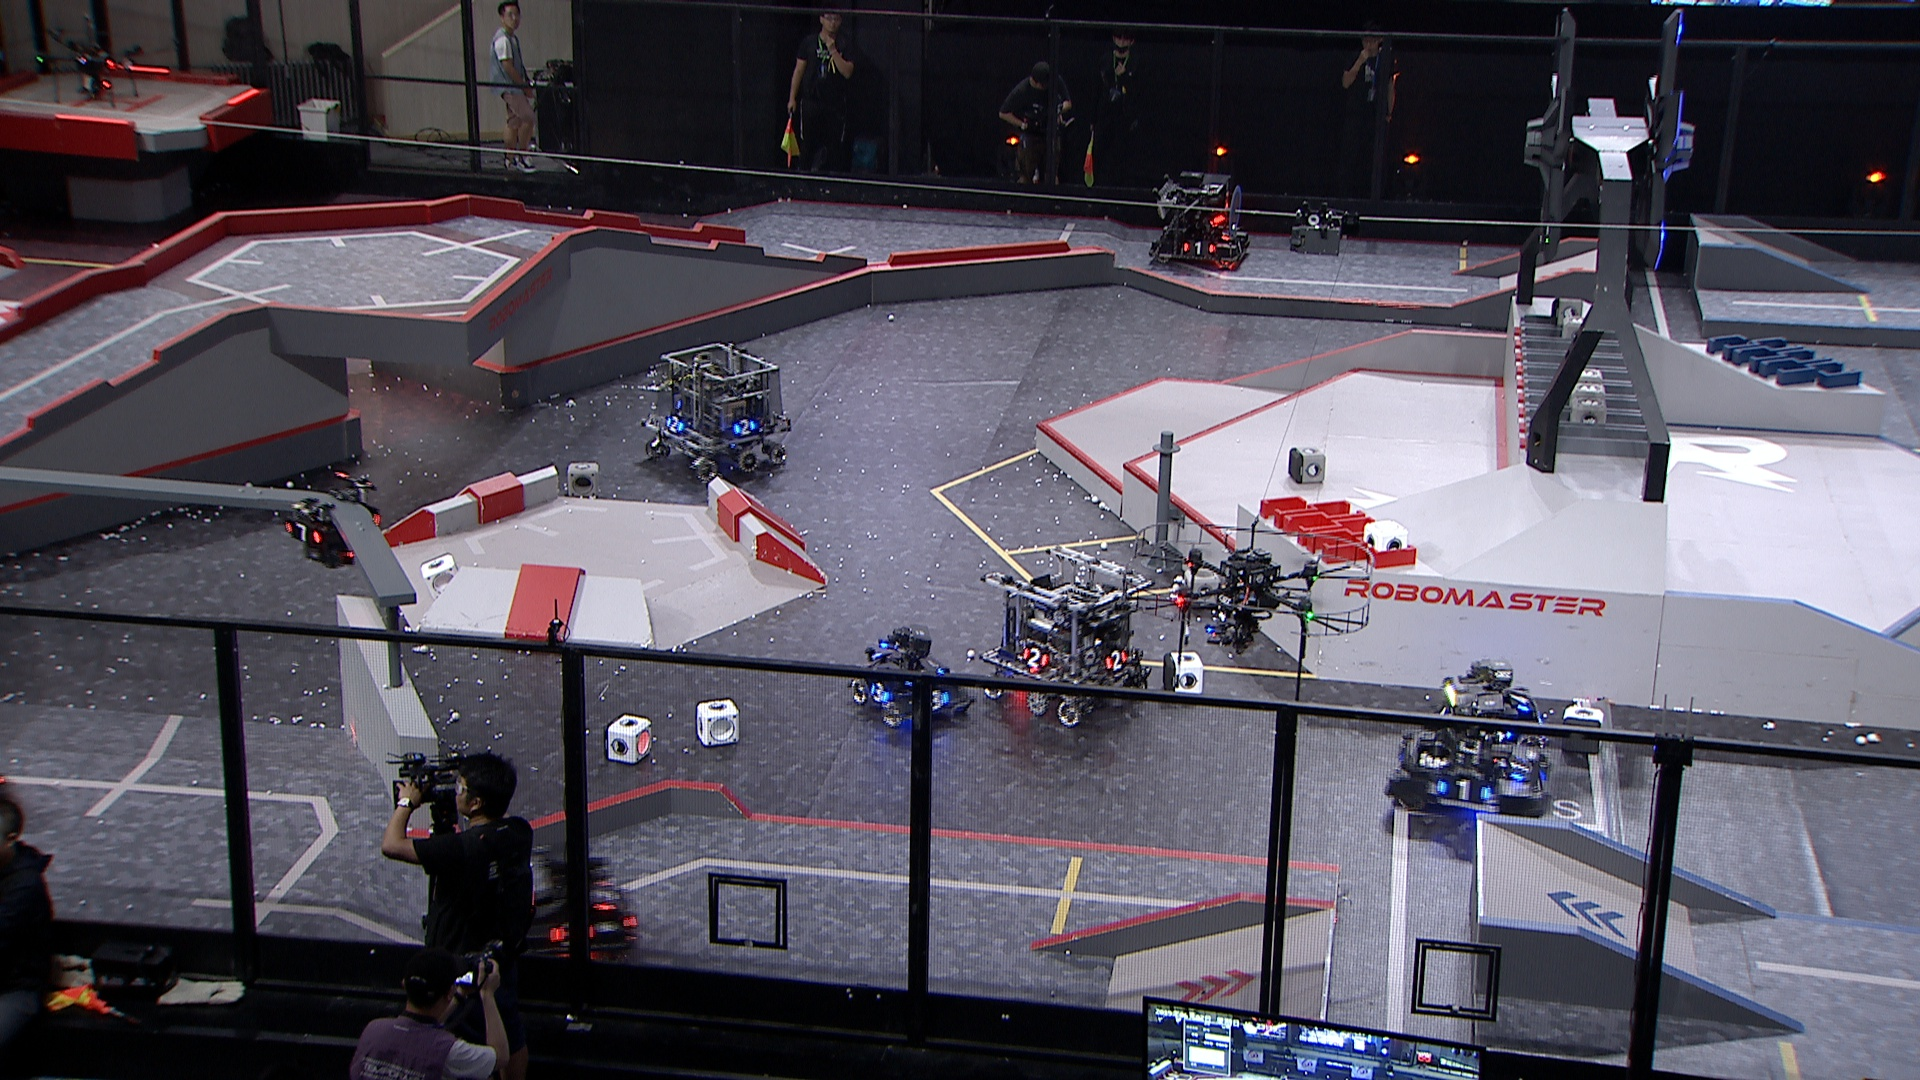armor: (1436, 778, 1493, 804), (585, 877, 618, 913), (284, 522, 320, 547), (1503, 754, 1531, 783), (1021, 644, 1050, 671), (1506, 688, 1532, 716), (1182, 239, 1218, 256), (1105, 647, 1129, 674), (869, 680, 893, 705), (926, 690, 949, 713), (732, 418, 757, 438), (665, 415, 684, 436), (1232, 237, 1249, 256)
car: (978, 546, 1155, 725), (641, 339, 794, 485), (1391, 692, 1552, 827), (495, 851, 641, 971), (852, 621, 972, 725), (1424, 655, 1548, 754), (1149, 167, 1251, 272)
watcher: (280, 465, 381, 568)
